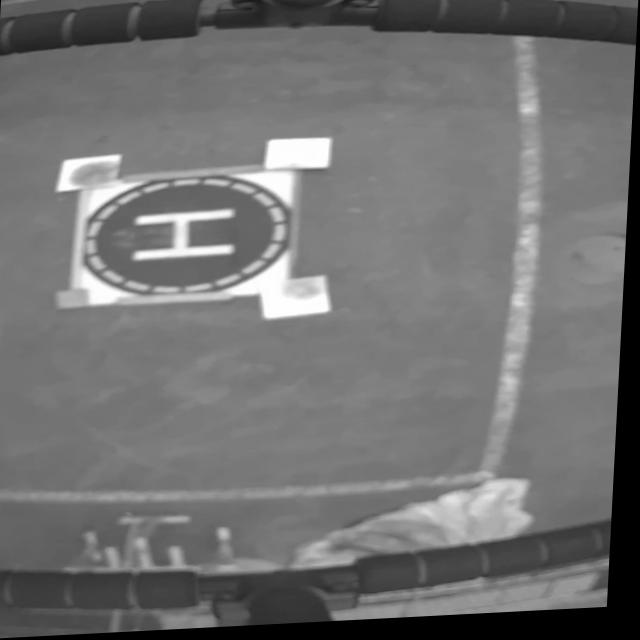Helipad: (134, 212, 236, 264)
